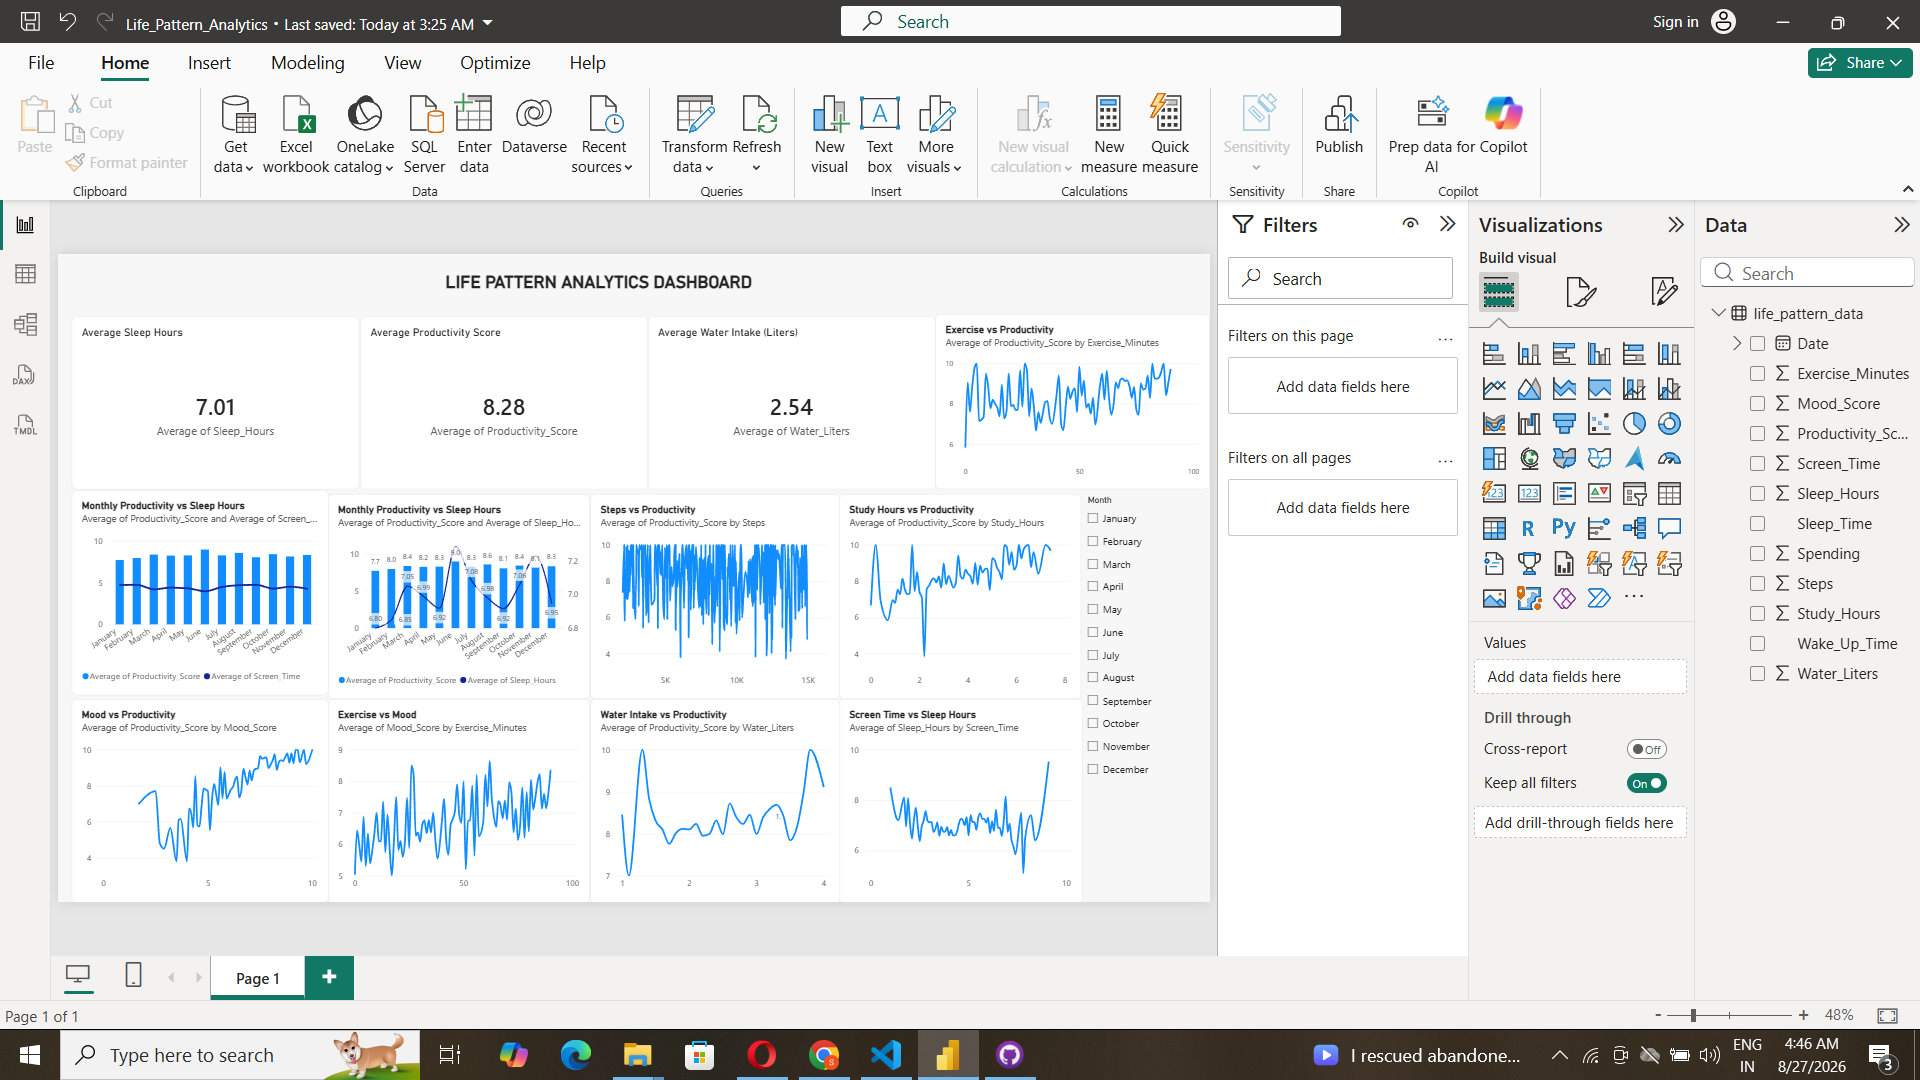

The dashboard page shown, as its layout file describes it:
{"tool":"powerbi","page":{"name":"Page 1","canvas":[1920,1080],"ordinal":0},"visuals":[{"type":"lineStackedColumnComboChart","title":"Monthly Productivity vs Sleep Hours","fields":{"Category":["life_pattern_data.Date.Variation.Date Hierarchy.Month"],"Y":["Avg(life_pattern_data.Productivity_Score)"],"Y2":["Avg(life_pattern_data.Screen_Time)"]},"box":[22.6,393.1,428.1,341.7],"z":0},{"type":"lineStackedColumnComboChart","title":"Monthly Productivity vs Sleep Hours","fields":{"Category":["life_pattern_data.Date.Variation.Date Hierarchy.Month"],"Y":["Avg(life_pattern_data.Productivity_Score)"],"Y2":["Avg(life_pattern_data.Sleep_Hours)"]},"box":[450.8,399.3,436.4,341.7],"z":1000},{"type":"lineChart","title":"Exercise vs Mood","fields":{"Category":["life_pattern_data.Exercise_Minutes"],"Y":["Avg(life_pattern_data.Mood_Score)"]},"box":[450.8,741,436.4,339.6],"z":2000},{"type":"card","title":"Average Sleep Hours","fields":{"Values":["Avg(life_pattern_data.Sleep_Hours)"]},"box":[22.6,105,479.6,288.2],"z":3000},{"type":"card","title":"Average Productivity Score","fields":{"Values":["Avg(life_pattern_data.Productivity_Score)"]},"box":[504.3,105,479,288.2],"z":4000},{"type":"card","title":"Average Water Intake (Liters)","fields":{"Values":["Avg(life_pattern_data.Water_Liters)"]},"box":[983.9,105,479,288.2],"z":5000},{"type":"textbox","box":[100,100,300,300],"z":6000},{"type":"textbox","box":[100,100,300,300],"z":7000},{"type":"textbox","box":[100,100,300,300],"z":8000},{"type":"textbox","box":[100,100,300,300],"z":9000},{"type":"textbox","box":[100,100,300,300],"z":10000},{"type":"textbox","box":[100,100,300,300],"z":11000},{"type":"textbox","box":[100,100,300,300],"z":12000},{"type":"textbox","box":[100,100,300,300],"z":13000},{"type":"textbox","box":[100,100,300,300],"z":14000},{"type":"textbox","box":[100,100,300,300],"z":15000},{"type":"textbox","box":[100,100,300,300],"z":16000},{"type":"textbox","box":[100,100,300,300],"z":17000},{"type":"textbox","box":[100,100,300,300],"z":18000},{"type":"textbox","box":[100,100,300,300],"z":19000},{"type":"lineChart","title":"Exercise vs Productivity","fields":{"Category":["life_pattern_data.Exercise_Minutes"],"Y":["Avg(life_pattern_data.Productivity_Score)"]},"box":[1463.5,100.9,456.9,292.3],"z":19001},{"type":"lineChart","title":"Mood vs Productivity","fields":{"Category":["life_pattern_data.Mood_Score"],"Y":["Avg(life_pattern_data.Productivity_Score)"]},"box":[22.6,741,428.1,339.6],"z":19002},{"type":"lineChart","title":"Screen Time vs Sleep Hours","fields":{"Category":["life_pattern_data.Screen_Time"],"Y":["Avg(life_pattern_data.Sleep_Hours)"]},"box":[1302.9,741,405.5,339.6],"z":19003},{"type":"lineChart","title":"Steps vs Productivity","fields":{"Category":["life_pattern_data.Steps"],"Y":["Avg(life_pattern_data.Productivity_Score)"]},"box":[887.1,399.3,415.8,341.7],"z":19004},{"type":"slicer","fields":{"Values":["life_pattern_data.Date.Variation.Date Hierarchy.Month"]},"box":[1708.4,401.4,212,679.2],"z":19005},{"type":"lineChart","title":"Study Hours vs Productivity","fields":{"Category":["life_pattern_data.Study_Hours"],"Y":["Avg(life_pattern_data.Productivity_Score)"]},"box":[1302.9,399.3,403.4,341.7],"z":19006},{"type":"lineChart","title":"Water Intake vs Productivity","fields":{"Category":["life_pattern_data.Water_Liters"],"Y":["Avg(life_pattern_data.Productivity_Score)"]},"box":[887.1,741,415.8,339.6],"z":19007},{"type":"textbox","box":[1195,930,258,150],"z":19008},{"type":"textbox","title":"LIFE PATTERN ANALYTICS DASHBOARD","box":[646.3,28.8,596.9,121.4],"z":19009}]}

Visuals, with their boxes on the page's 1920x1080 design canvas (x1, y1, x2, y2). These are canvas units, not pixel positions in the 1920x1080 screenshot, which may show the page scaled, cropped or inside an application window:
"Monthly Productivity vs Sleep Hours" lineStackedColumnComboChart: 23 393 451 735
"Monthly Productivity vs Sleep Hours" lineStackedColumnComboChart: 451 399 887 741
"Exercise vs Mood" lineChart: 451 741 887 1081
"Average Sleep Hours" card: 23 105 502 393
"Average Productivity Score" card: 504 105 983 393
"Average Water Intake (Liters)" card: 984 105 1463 393
textbox: 100 100 400 400
textbox: 100 100 400 400
textbox: 100 100 400 400
textbox: 100 100 400 400
textbox: 100 100 400 400
textbox: 100 100 400 400
textbox: 100 100 400 400
textbox: 100 100 400 400
textbox: 100 100 400 400
textbox: 100 100 400 400
textbox: 100 100 400 400
textbox: 100 100 400 400
textbox: 100 100 400 400
textbox: 100 100 400 400
"Exercise vs Productivity" lineChart: 1464 101 1920 393
"Mood vs Productivity" lineChart: 23 741 451 1081
"Screen Time vs Sleep Hours" lineChart: 1303 741 1708 1081
"Steps vs Productivity" lineChart: 887 399 1303 741
slicer - life_pattern_data.Date.Variation.Date Hierarchy.Month: 1708 401 1920 1081
"Study Hours vs Productivity" lineChart: 1303 399 1706 741
"Water Intake vs Productivity" lineChart: 887 741 1303 1081
textbox: 1195 930 1453 1080
"LIFE PATTERN ANALYTICS DASHBOARD" textbox: 646 29 1243 150
